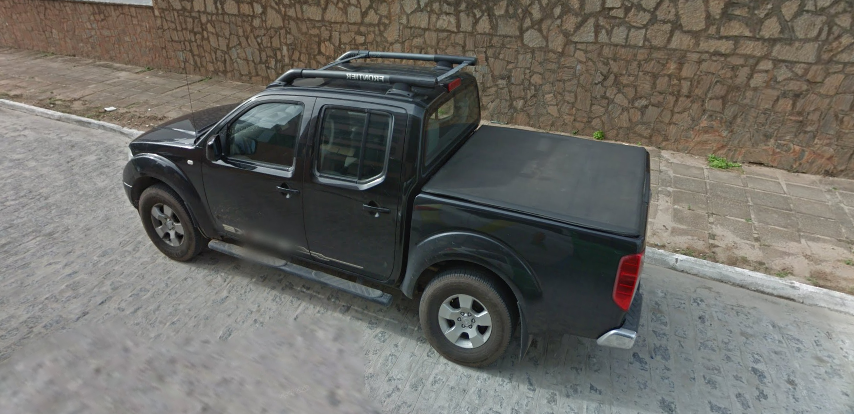car: (120, 34, 656, 376)
